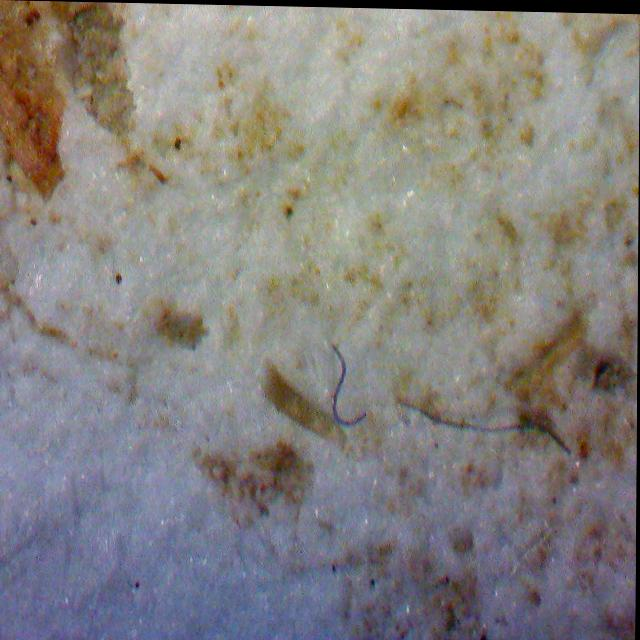microplastic: (402, 398, 574, 452), (332, 343, 368, 427)
